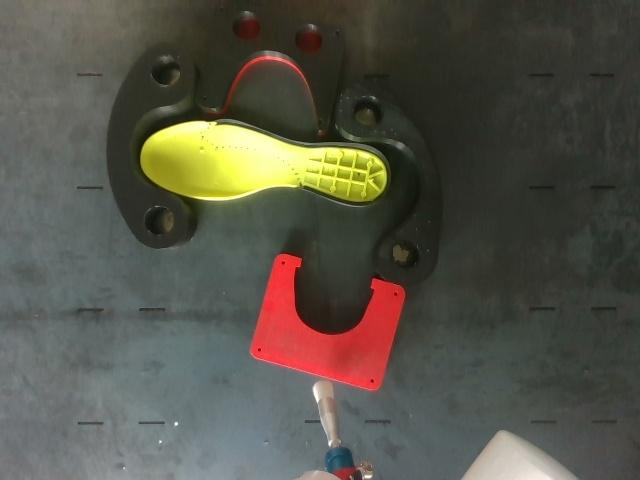shoes: (141, 123, 390, 206)
